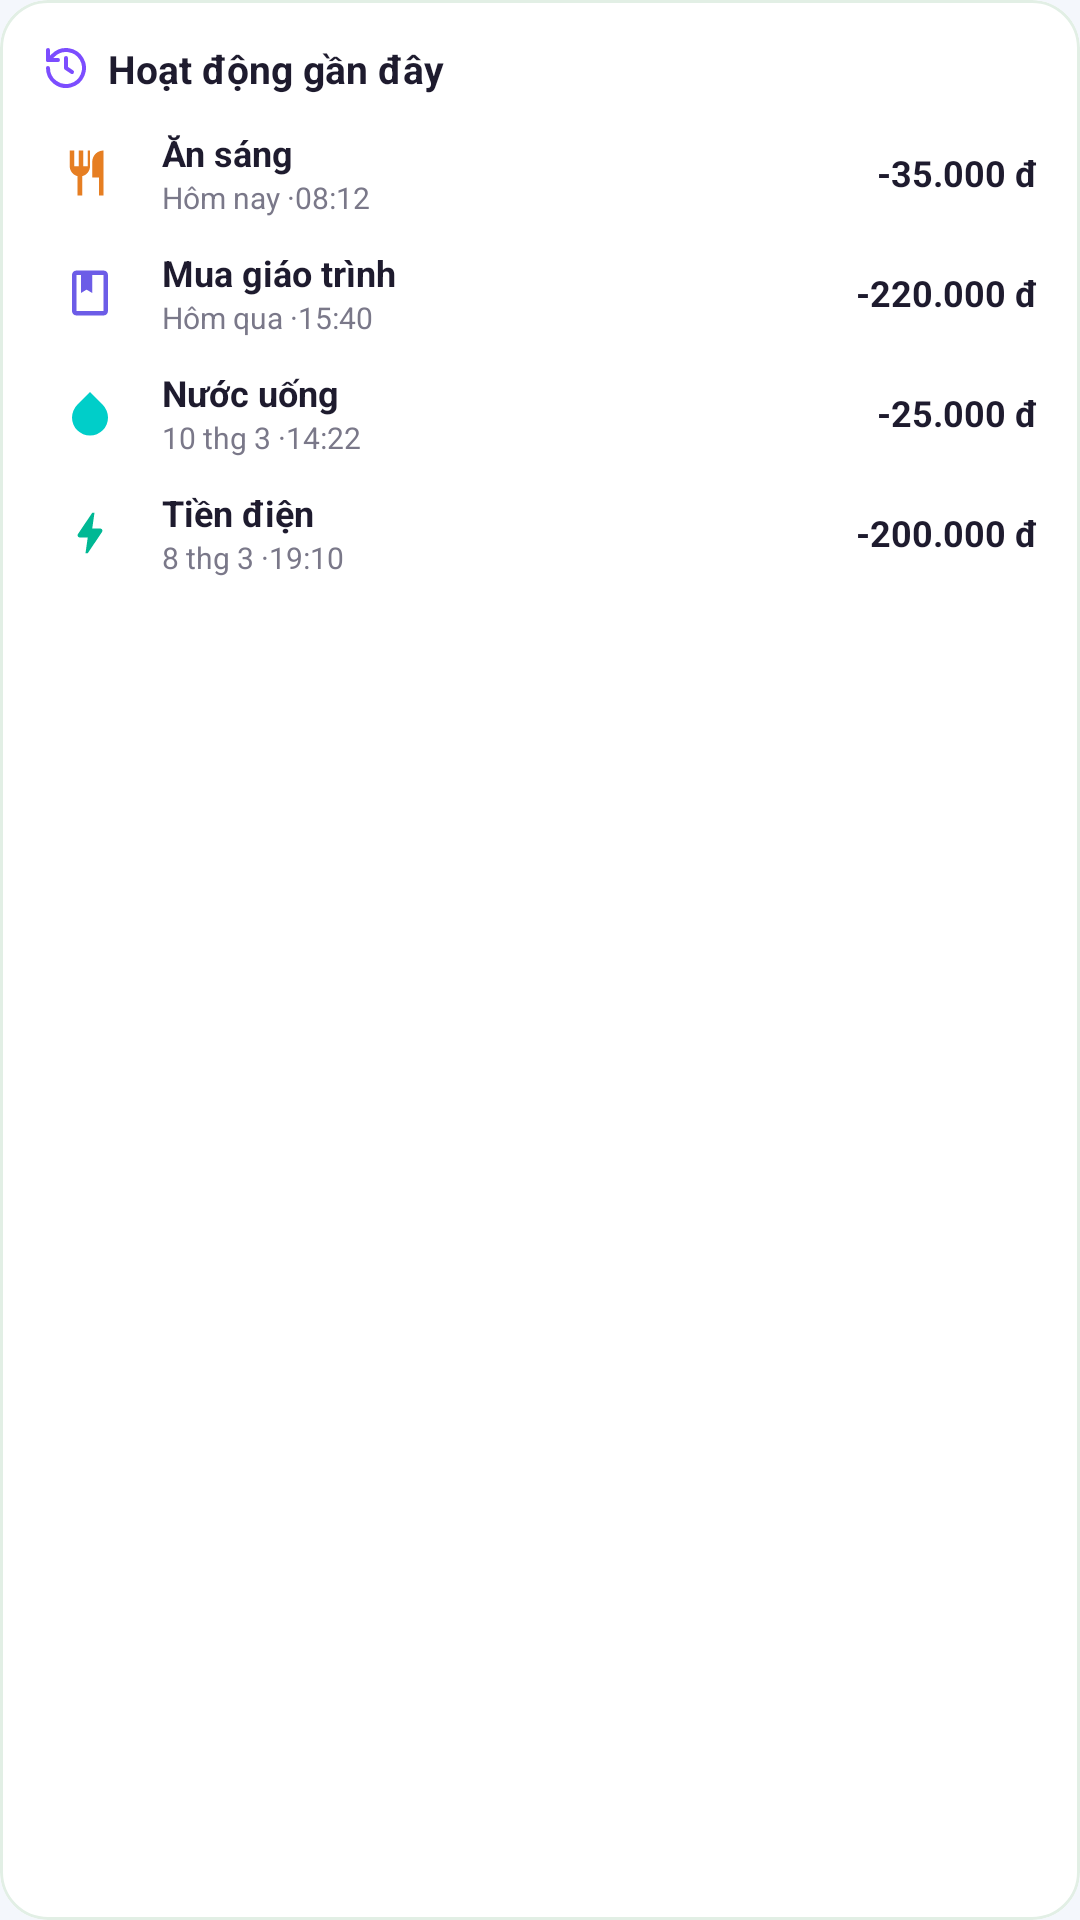

Where icons sit on this 1080px x 1920px app screen, as (x1, y1, x2, y2):
Recent Activity Icon: (46, 48, 86, 88)
